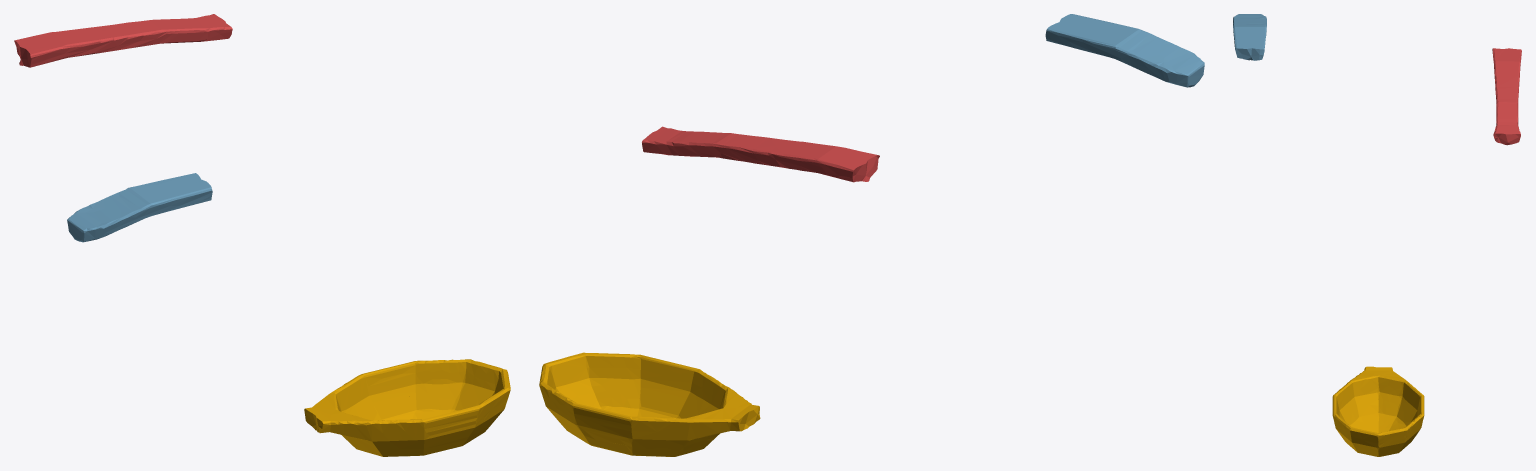
Rendered from mode_2_3pcs_transformed.glb.
3 views of the same model, side by side, from view 1: azimuth 30°, elevation 25°; view 2: azimuth 150°, elevation 25°; view 3: azimuth 270°, elevation 25° (orthographic). The views are drawn at different scales.
Visible parts, largest first — view 1: piece_0.obj, piece_1.obj, piece_2.obj; view 2: piece_0.obj, piece_1.obj, piece_2.obj; view 3: piece_0.obj, piece_1.obj, piece_2.obj.
Part boxes in pixels (x1=…): piece_0.obj: x1=304, y1=359, x2=510, y2=456; piece_1.obj: x1=14, y1=14, x2=232, y2=67; piece_2.obj: x1=67, y1=173, x2=212, y2=242; piece_0.obj: x1=539, y1=352, x2=760, y2=456; piece_1.obj: x1=642, y1=126, x2=879, y2=182; piece_2.obj: x1=1045, y1=14, x2=1204, y2=87; piece_0.obj: x1=1332, y1=366, x2=1424, y2=456; piece_1.obj: x1=1492, y1=48, x2=1521, y2=145; piece_2.obj: x1=1233, y1=14, x2=1266, y2=60.
Size of the model in its own units: 1 by 0.7529 by 0.6738.
